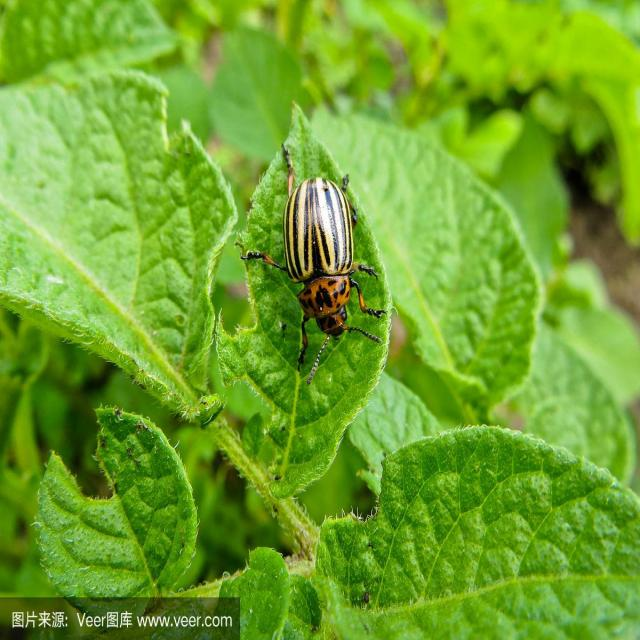ShuCaiHuaBanChong-Grown-: (266, 160, 374, 346)
